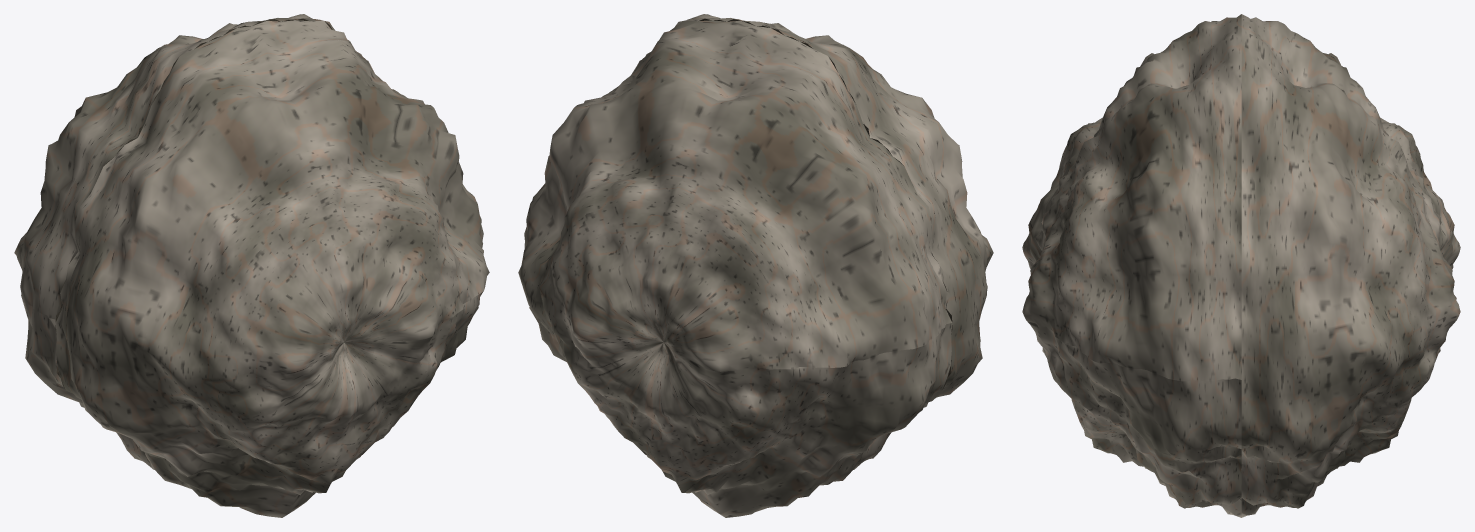
The model's file is smoky-quartz-study-v2.glb.
3 renders of one model, left to right at view 1: azimuth 30°, elevation 25°; view 2: azimuth 150°, elevation 25°; view 3: azimuth 270°, elevation 25°, orthographic.
Parts seen in each view (by area): view 1: Closed_front, Closed_back; view 2: Closed_back, Closed_front; view 3: Closed_front, Closed_back.
Boxes of the visible parts, box(x1,y1,x2,y2) form: Closed_front: box(55, 20, 489, 517); Closed_back: box(14, 14, 383, 469); Closed_back: box(518, 20, 952, 517); Closed_front: box(613, 14, 993, 469); Closed_front: box(1022, 14, 1241, 517); Closed_back: box(1241, 14, 1460, 517).
Bounding box in the file's own units: 3.02 × 3.48 × 2.86.
Materials: 8 (3 with a texture image).
